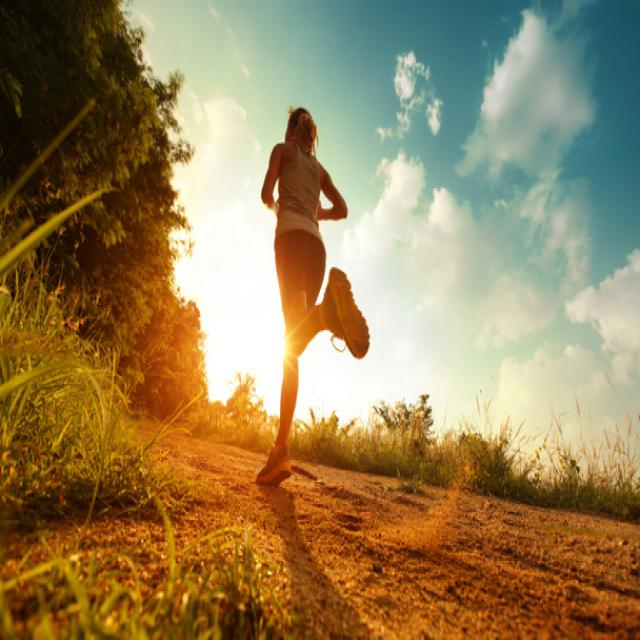Person: (256, 106, 370, 485)
